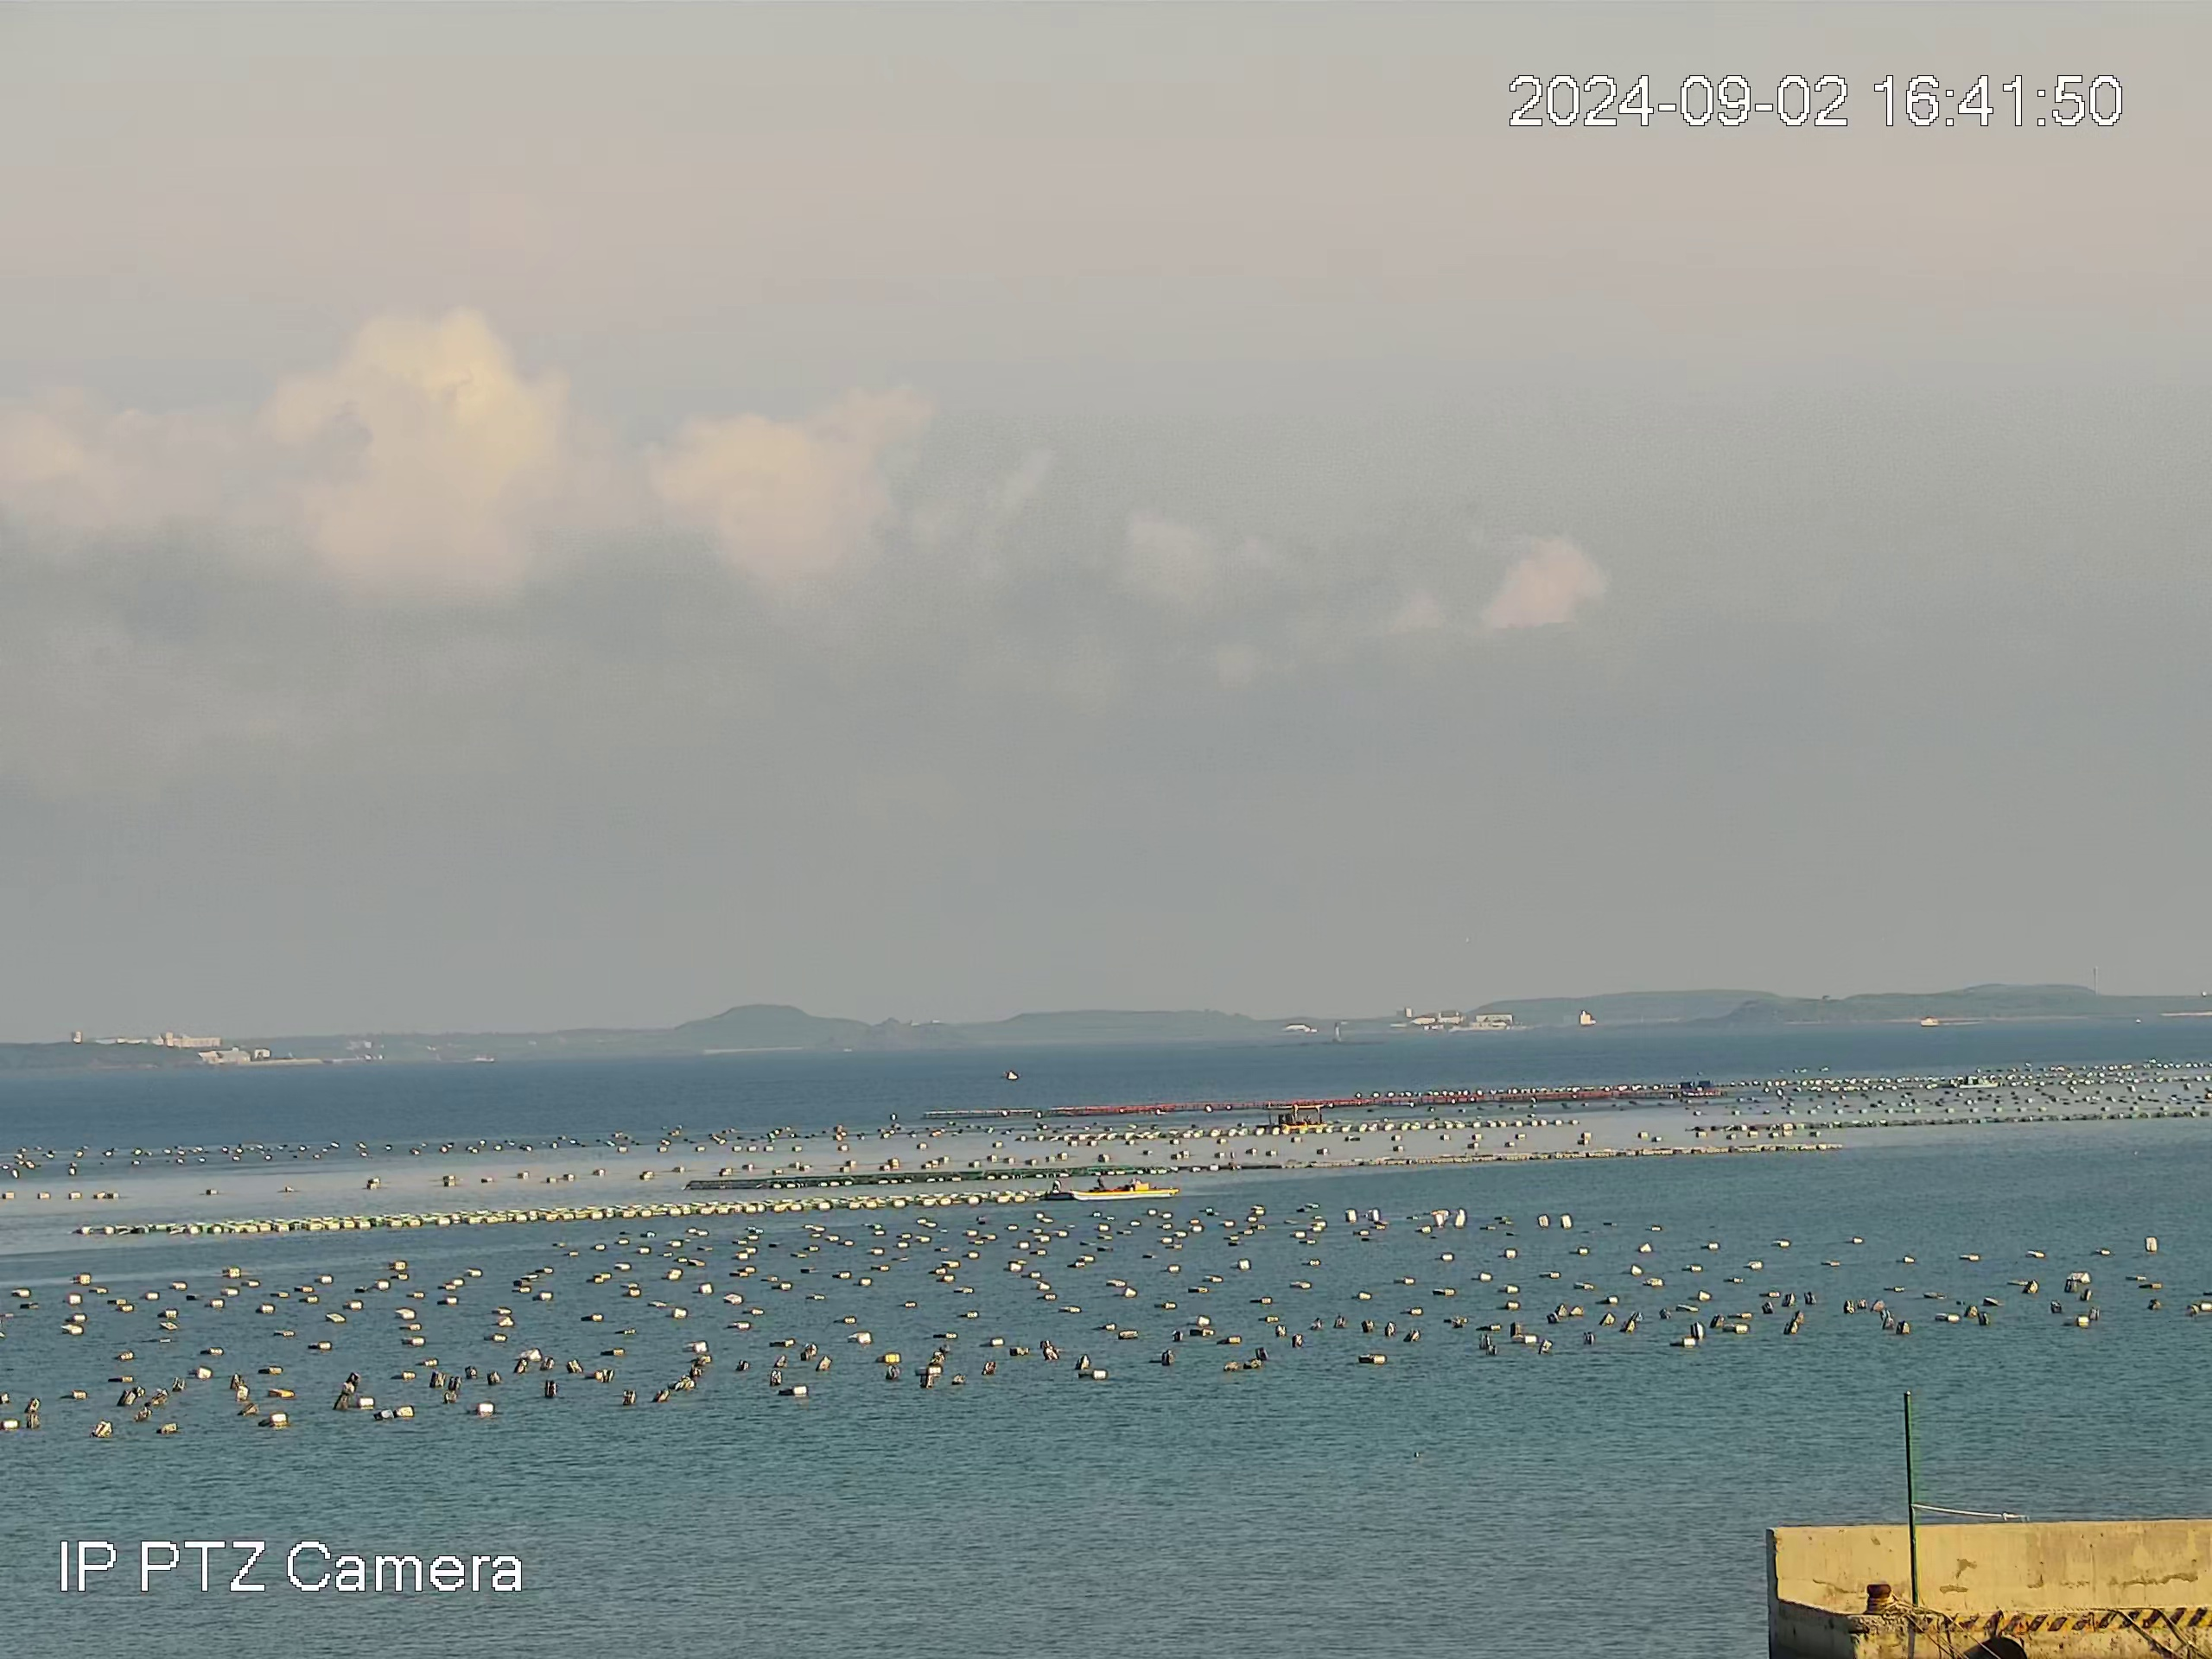boat: (1042, 1175, 1181, 1202), (1264, 1100, 1327, 1129), (1958, 1073, 2000, 1089)
